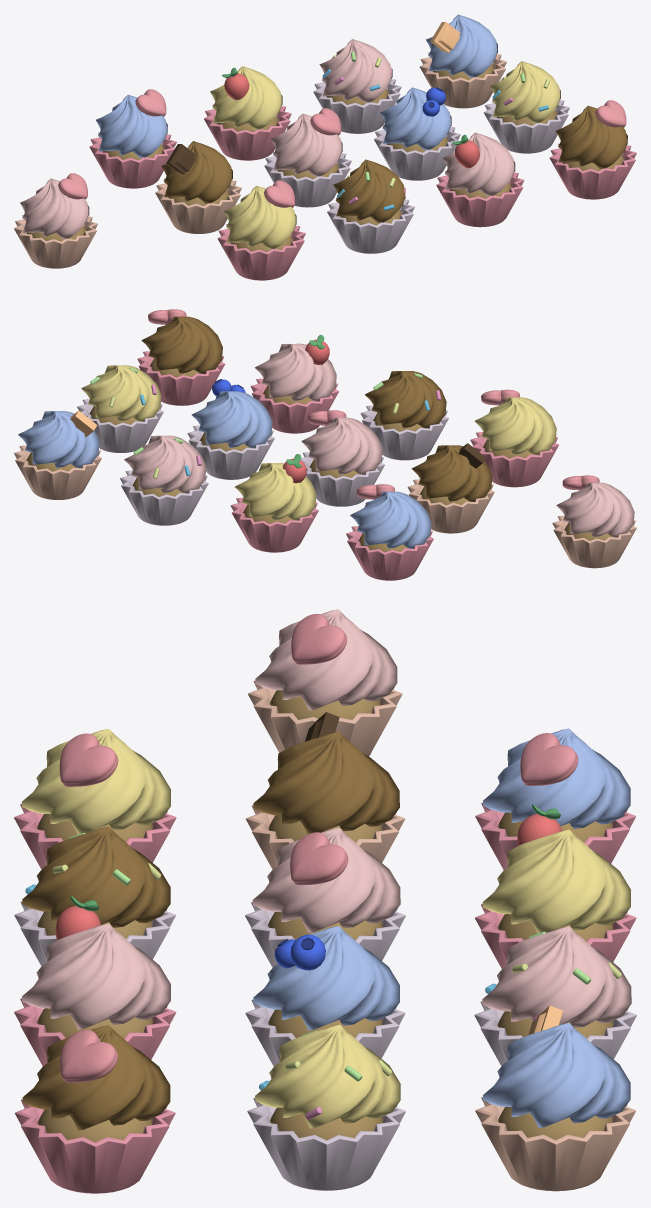
Rendered from cupcake.glb.
The picture shows the model from 3 angles, top to bottom: view 1: azimuth 30°, elevation 25°; view 2: azimuth 150°, elevation 25°; view 3: azimuth 270°, elevation 25°; orthographic projection. The views are drawn at different scales.
Visible parts, largest first — view 1: Strawberry_Cream_3.001, Chocolate_Cream_2.001, Vanilla_Cream_1.001, Vanilla_Cream_2.001, Strawberry_Cream_1.001, Blueberry_Cream_1.001, Chocolate_Cream_1.001, Blueberry_Cream_3.001, Strawberry_Cream_2.001, Vanilla_Cream_3.001, Chocolate_Cream_3.001, Cream.001 (+23 smaller); view 2: Vanilla_Cream_1.001, Chocolate_Cream_1.001, Blueberry_Cream_1.001, Strawberry_Cream_1.001, Blueberry_Cream_3.001, Strawberry_Cream_3.001, Chocolate_Cream_2.001, Strawberry_Cream_2.001, Vanilla_Cream_3.001, Vanilla_Cream_2.001, Blueberry_Cream_2.001, Cream.001 (+19 smaller); view 3: Strawberry_Cream_2.001, Vanilla_Cream_3.001, Blueberry_Cream_2.001, Chocolate_Cream_3.001, Strawberry_Cream_3.001, Vanilla_Cream_2.001, Chocolate_Cream_2.001, Blueberry_Cream_3.001, Vanilla_Cream_1.001, Chocolate_Cream_1.001, Strawberry_Cream_1.001, Blueberry_Cream_1.001 (+34 smaller).
Part boxes in pixels (bbox=[...]): Strawberry_Cream_3.001: bbox=[319, 39, 392, 102]; Chocolate_Cream_2.001: bbox=[333, 159, 405, 222]; Vanilla_Cream_1.001: bbox=[223, 185, 296, 249]; Vanilla_Cream_2.001: bbox=[490, 61, 560, 123]; Strawberry_Cream_1.001: bbox=[270, 113, 342, 176]; Blueberry_Cream_1.001: bbox=[96, 94, 167, 157]; Chocolate_Cream_1.001: bbox=[556, 105, 627, 168]; Blueberry_Cream_3.001: bbox=[380, 87, 451, 150]; Strawberry_Cream_2.001: bbox=[442, 132, 515, 196]; Vanilla_Cream_3.001: bbox=[210, 66, 282, 129]; Chocolate_Cream_3.001: bbox=[161, 141, 232, 203]; Cream.001: bbox=[20, 178, 89, 239]; Vanilla_Cream_1.001: bbox=[474, 397, 556, 455]; Chocolate_Cream_1.001: bbox=[141, 316, 222, 373]; Blueberry_Cream_1.001: bbox=[350, 491, 431, 548]; Strawberry_Cream_1.001: bbox=[301, 417, 382, 474]; Blueberry_Cream_3.001: bbox=[191, 391, 272, 448]; Strawberry_Cream_3.001: bbox=[124, 435, 206, 493]; Chocolate_Cream_2.001: bbox=[365, 371, 446, 428]; Strawberry_Cream_2.001: bbox=[254, 343, 336, 401]; Vanilla_Cream_3.001: bbox=[235, 463, 316, 520]; Vanilla_Cream_2.001: bbox=[81, 365, 161, 421]; Blueberry_Cream_2.001: bbox=[18, 411, 99, 468]; Cream.001: bbox=[556, 482, 634, 537]; Strawberry_Cream_2.001: bbox=[22, 923, 170, 1029]; Vanilla_Cream_3.001: bbox=[482, 829, 630, 933]; Blueberry_Cream_2.001: bbox=[483, 1023, 630, 1127]; Chocolate_Cream_3.001: bbox=[253, 731, 399, 834]; Strawberry_Cream_3.001: bbox=[482, 926, 631, 1027]; Vanilla_Cream_2.001: bbox=[255, 1024, 400, 1128]; Chocolate_Cream_2.001: bbox=[22, 827, 170, 927]; Blueberry_Cream_3.001: bbox=[253, 926, 399, 1030]; Vanilla_Cream_1.001: bbox=[22, 729, 170, 834]; Chocolate_Cream_1.001: bbox=[22, 1025, 170, 1130]; Strawberry_Cream_1.001: bbox=[252, 827, 400, 932]; Blueberry_Cream_1.001: bbox=[483, 728, 630, 828].
Size of the model in its own units: 0.4 by 0.0614 by 0.2157.
